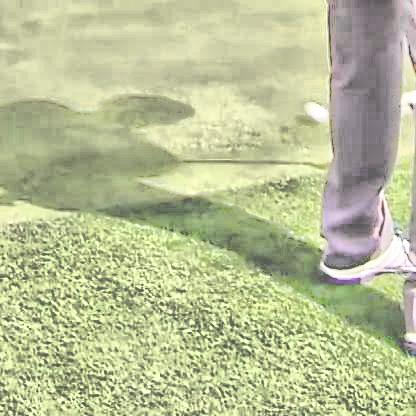golfball: (302, 100, 326, 122)
